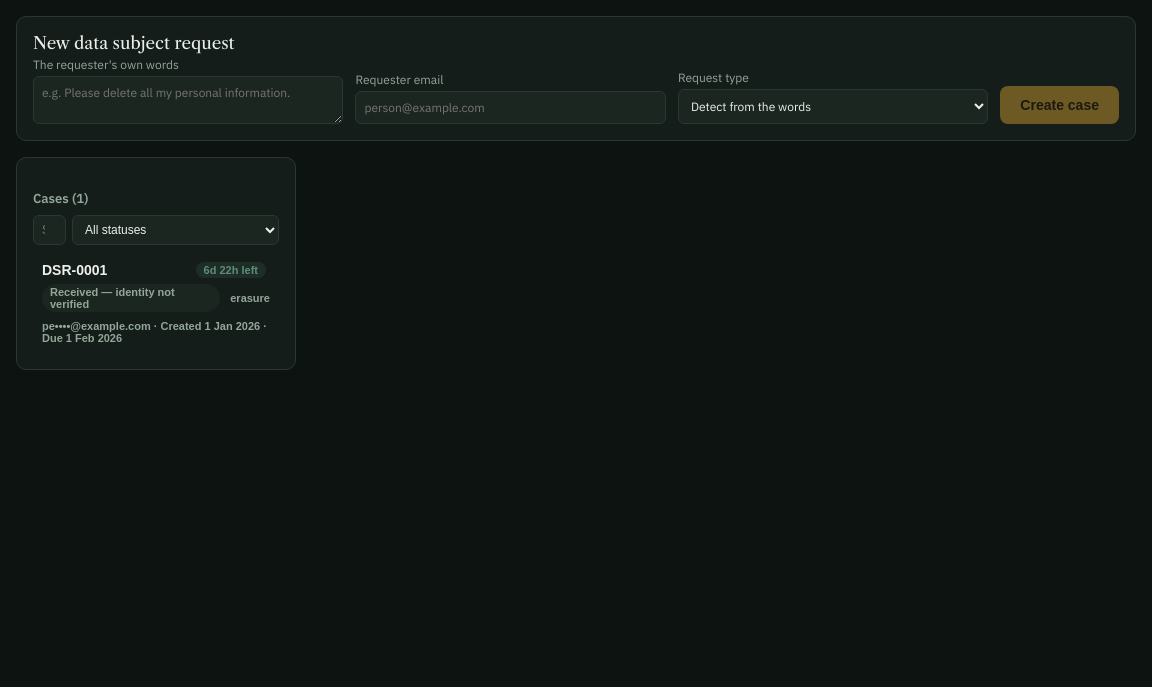
DsrDashboard: case detail › 'Generate code' shows the code inline with a Copy button -- it never opens a browser prompt
This screenshot has width=1152, height=687.
Expected: the text "DSR-0001" is shown, [42,262,107,278]
Click the button "DSR-0001".
click(156, 303)  # box [33,253,279,353]
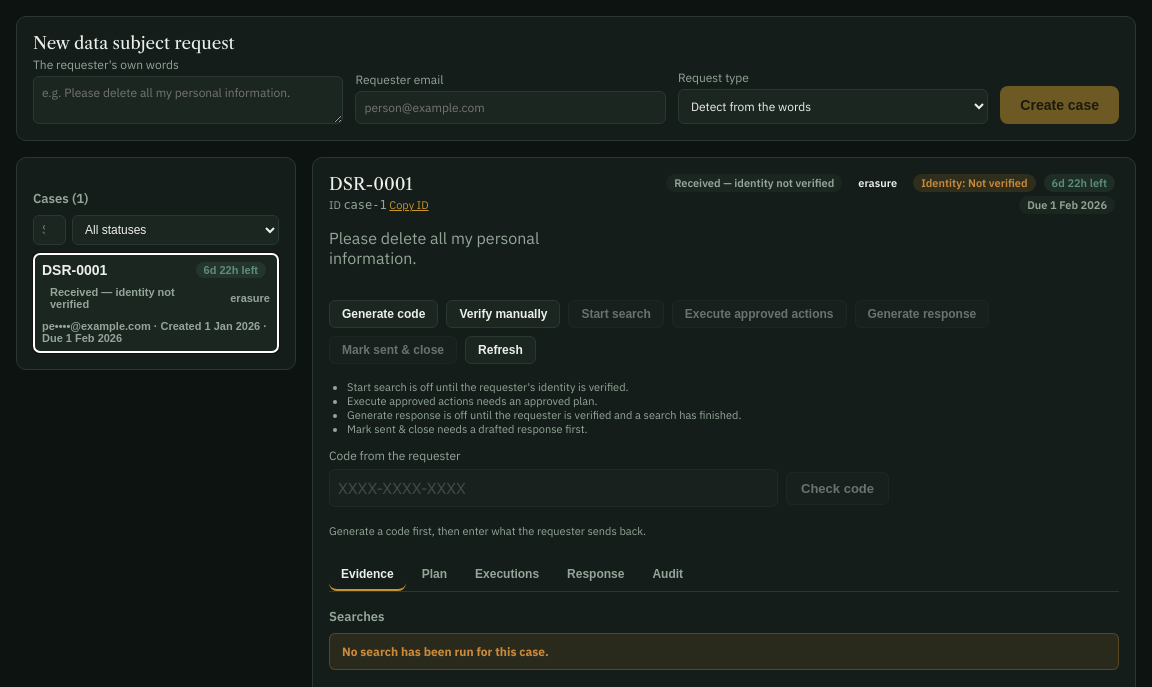
Expected: the heading "DSR-0001" is shown, [329,174,413,194]
Expected: the button "Generate code" is enabled
Click the button "Generate code".
click(384, 314)  # box [329,300,438,328]
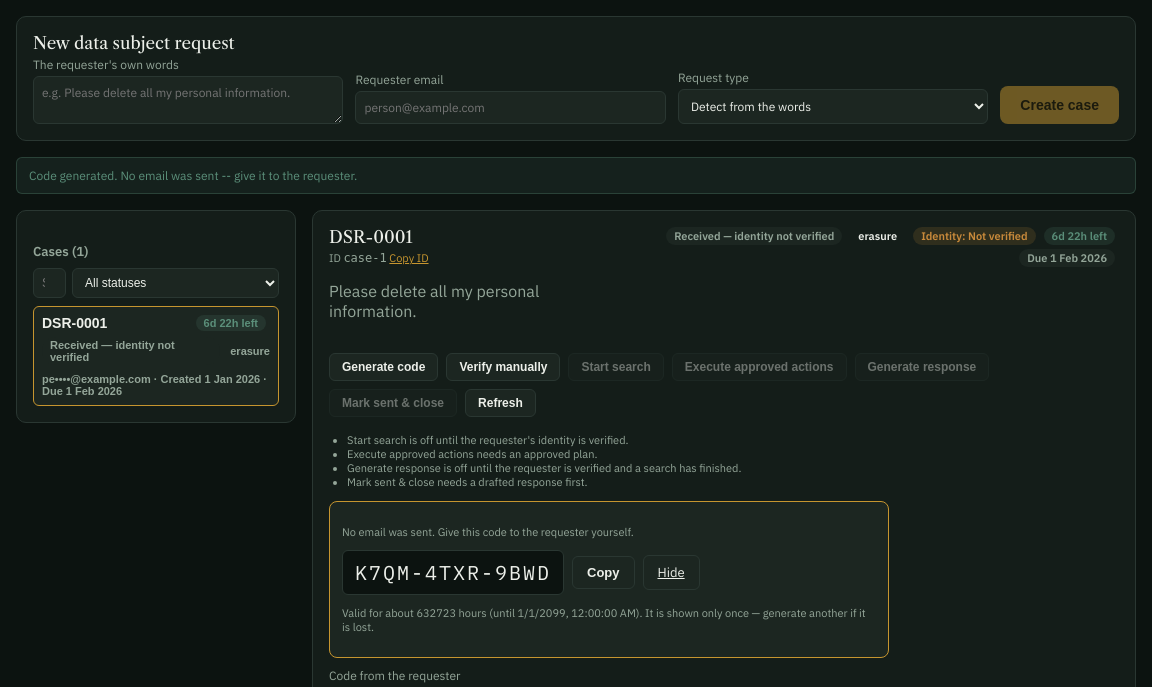
Expected: the text with test id "verification-code" reads "K7QM-4TXR-9BWD", [355,559,551,586]
Expected: the button "Copy" is shown, [572,556,634,589]
